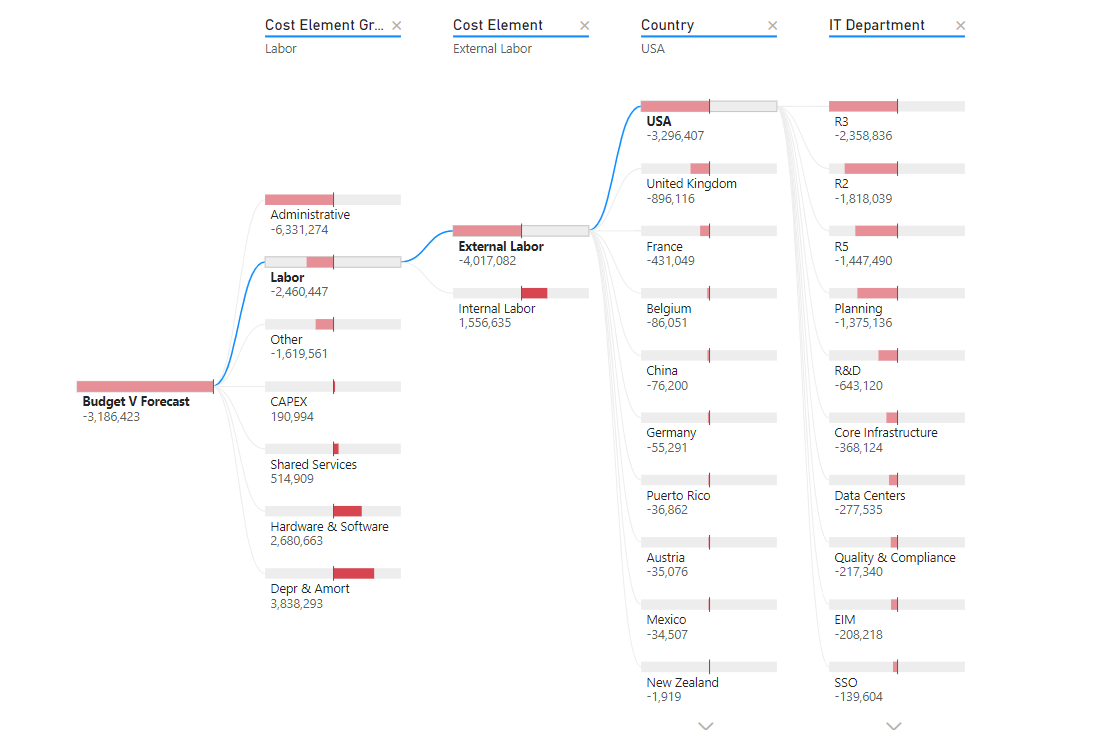

The page's visual inventory and layout, read from the dashboard file:
{"tool":"powerbi","page":{"name":"Decomposition","canvas":[1280,720],"ordinal":2},"visuals":[{"type":"decompositionTreeVisual","fields":{"Analyze":["Budget.Budget V Forecast"],"ExplainBy":["CostElements.Cost Element Group","CostElements.Cost Element","Regions.Country","Departments.IT Department"]},"box":[10,0,1270,720],"z":0}]}

Visuals, with their boxes on the page's 1280x720 design canvas (x1, y1, x2, y2). These are canvas units, not pixel positions in the 1118x732 screenshot, which may show the page scaled, cropped or inside an application window:
decompositionTreeVisual - Budget.Budget V Forecast x CostElements.Cost Element Group: 10, 0, 1280, 720
